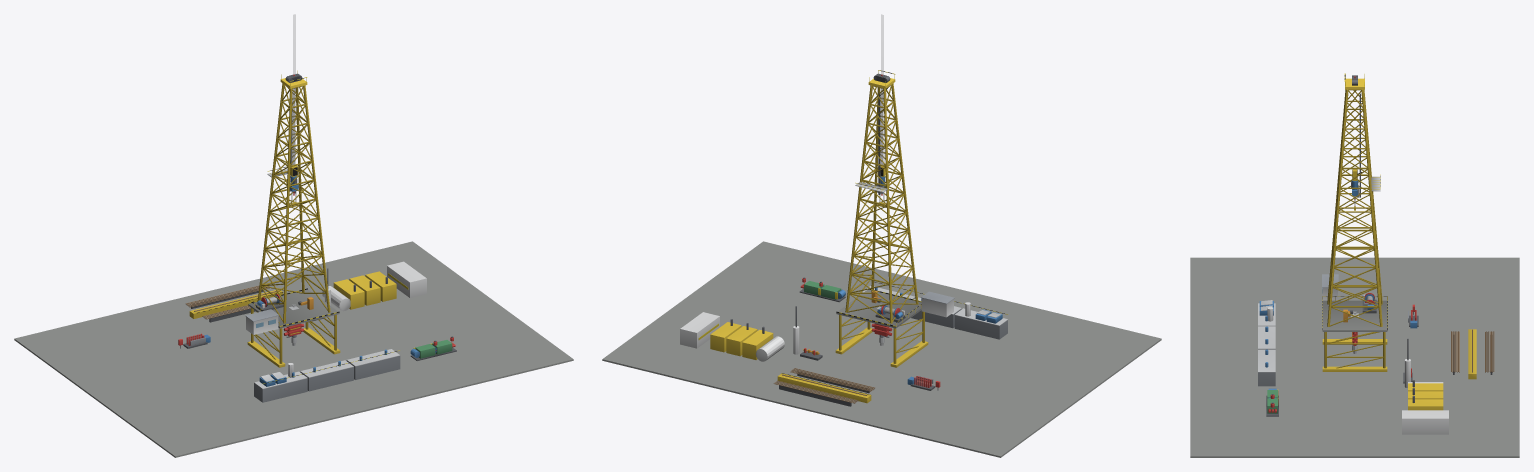
Rendered from triple_med.glb.
The picture shows the model from 3 angles, left to right: view 1: azimuth 30°, elevation 25°; view 2: azimuth 150°, elevation 25°; view 3: azimuth 270°, elevation 25°; orthographic projection. The views are drawn at different scales.
Visible parts, largest first — view 1: site__pad, mast__mast, mudtanks__tanks, generators__gensets, mast__floor, mast__substructure, generators__vfd, pipehandling__racker, pipehandling__catwalk, mast__doghouse; view 2: site__pad, mast__mast, mudtanks__tanks, generators__gensets, mast__floor, pipehandling__racker, mast__substructure, generators__vfd, pipehandling__catwalk, mast__doghouse; view 3: site__pad, mast__mast, mast__floor, mudtanks__tanks, mast__substructure, generators__vfd, generators__gensets, pipehandling__racker, pipehandling__catwalk.
Part boxes in pixels (<box>): site__pad: <box>14,241,573,457</box>; mast__mast: <box>257,83,330,323</box>; mudtanks__tanks: <box>254,349,400,402</box>; generators__gensets: <box>333,271,396,309</box>; mast__floor: <box>248,288,339,328</box>; mast__substructure: <box>247,308,340,367</box>; generators__vfd: <box>387,261,426,297</box>; pipehandling__racker: <box>185,285,269,322</box>; pipehandling__catwalk: <box>189,289,283,318</box>; mast__doghouse: <box>245,309,279,334</box>; site__pad: <box>602,241,1161,457</box>; mast__mast: <box>845,83,918,323</box>; mudtanks__tanks: <box>862,281,1007,339</box>; generators__gensets: <box>710,319,773,359</box>; mast__floor: <box>836,289,921,328</box>; pipehandling__racker: <box>773,368,874,406</box>; mast__substructure: <box>835,311,928,367</box>; generators__vfd: <box>680,312,719,348</box>; pipehandling__catwalk: <box>777,373,871,403</box>; mast__doghouse: <box>921,291,954,317</box>; site__pad: <box>1190,257,1519,457</box>; mast__mast: <box>1327,89,1382,326</box>; mast__floor: <box>1322,296,1387,331</box>; mudtanks__tanks: <box>1258,303,1275,386</box>; mast__substructure: <box>1322,332,1387,371</box>; generators__vfd: <box>1402,410,1448,434</box>; generators__gensets: <box>1408,380,1443,410</box>; pipehandling__racker: <box>1451,331,1494,374</box>; pipehandling__catwalk: <box>1468,329,1476,379</box>.
Size of the model in its own units: 80 by 64.46 by 56.
